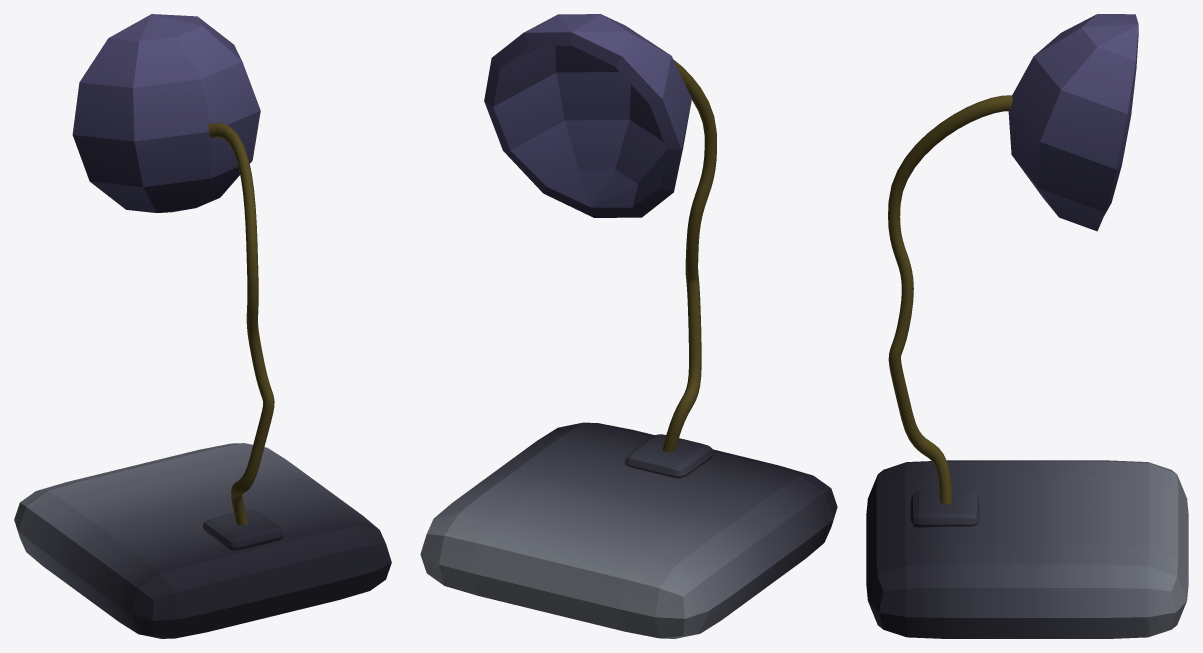
Rendered from desk-lamp.glb.
The picture shows the model from 3 angles, left to right: view 1: azimuth 30°, elevation 25°; view 2: azimuth 150°, elevation 25°; view 3: azimuth 270°, elevation 25°; orthographic projection. The views are drawn at different scales.
Parts seen in each view (by area): view 1: Cube.003, BézierCurve; view 2: Cube.003, BézierCurve; view 3: Cube.003, BézierCurve.
Part boxes in pixels (x1,y1,x2,y2): Cube.003: [14, 14, 391, 638]; BézierCurve: [208, 122, 274, 525]; Cube.003: [420, 14, 837, 638]; BézierCurve: [662, 59, 716, 452]; Cube.003: [866, 14, 1188, 638]; BézierCurve: [888, 95, 1012, 504].
Size of the model in its own units: 0.2592 by 0.5 by 0.2592.
Materials: 2 (1 with a texture image).
